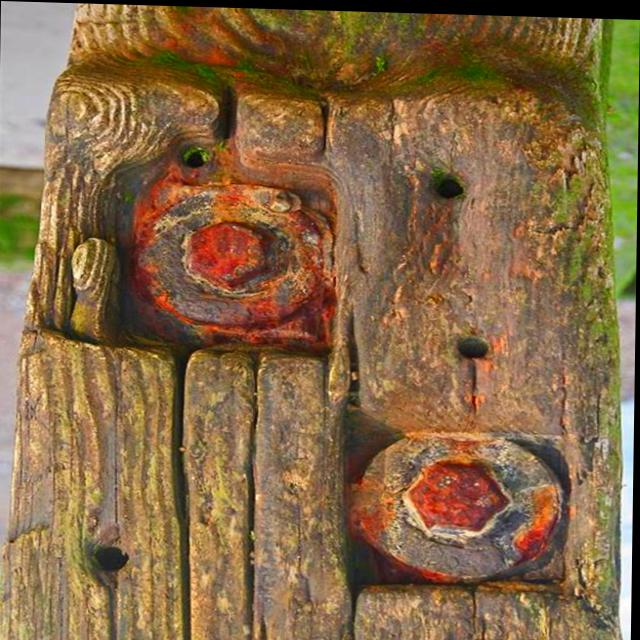Rusty bolt: (407, 458, 510, 532), (187, 220, 272, 289)
